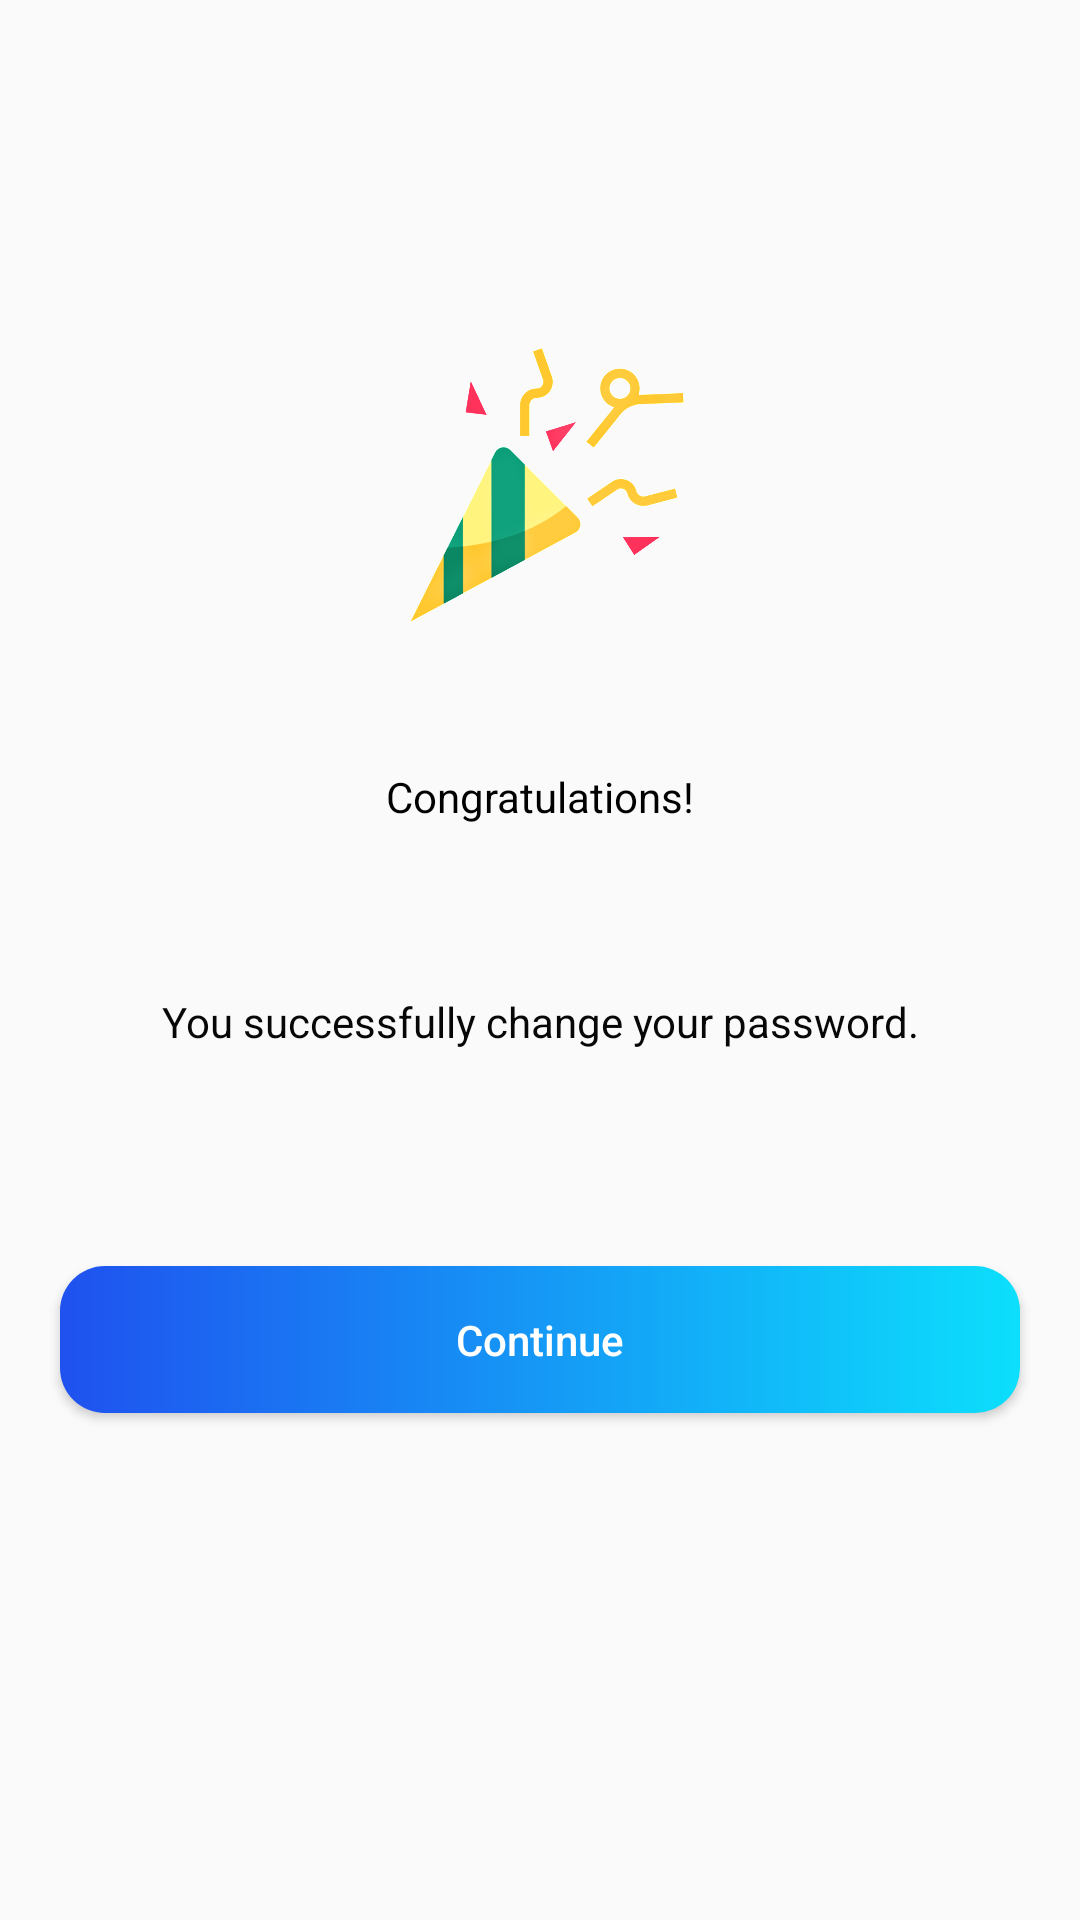

Where to tap for icons on this 1080*1920 app screen, as (x=x, y=y):
congrats: (x=547, y=484)
